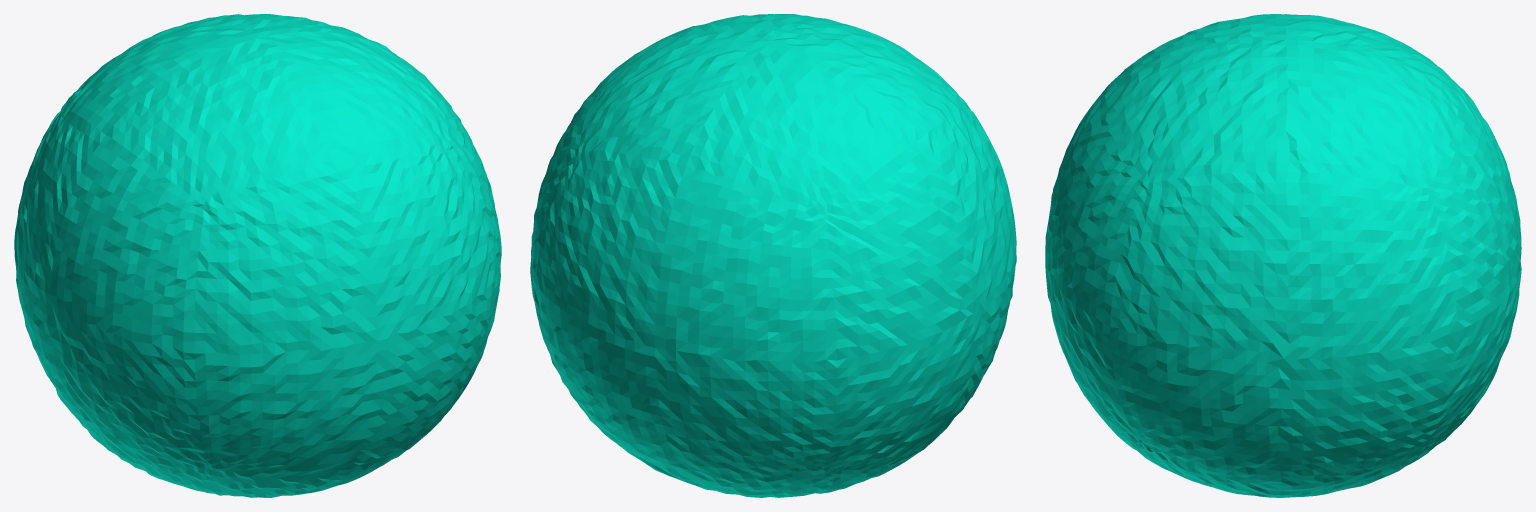
Rendered from Sea34.fbx.
3 renders of one model, left to right at view 1: azimuth 30°, elevation 25°; view 2: azimuth 150°, elevation 25°; view 3: azimuth 270°, elevation 25°, orthographic.
Parts seen in each view (by area): view 1: pCube1; view 2: pCube1; view 3: pCube1.
Boxes of the visible parts, x1,y1,x2,y2 form: pCube1: [14, 14, 501, 497]; pCube1: [530, 14, 1016, 497]; pCube1: [1045, 14, 1521, 497].
Size of the model in its own units: 40.1 by 40.08 by 40.04.
